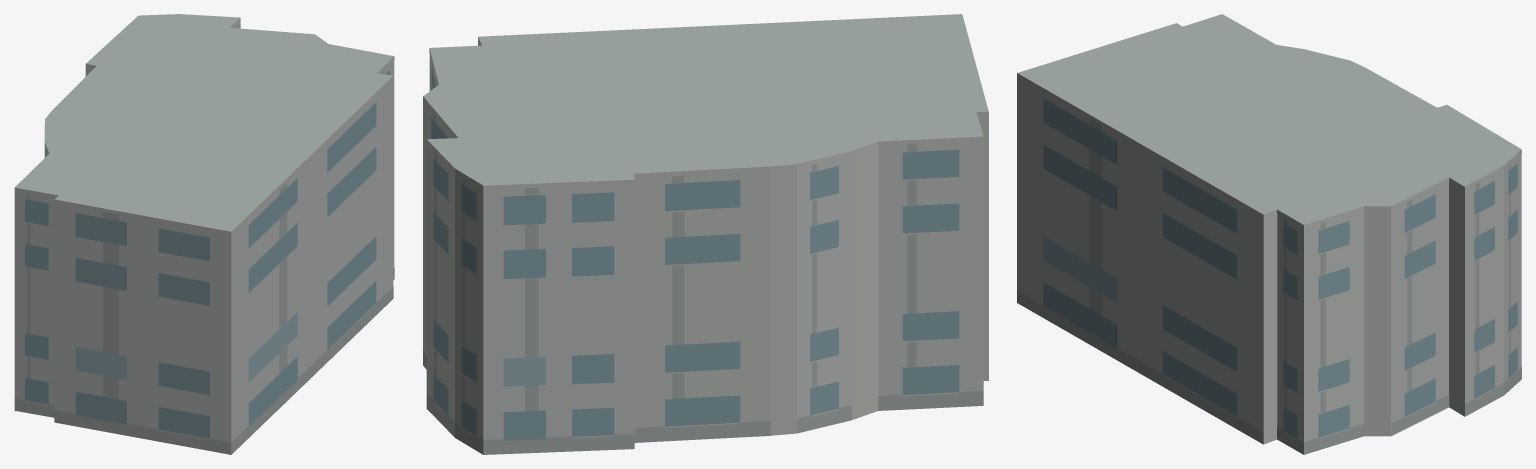
Rendered from survey-upis-32754911.glb.
The picture shows the model from 3 angles, left to right: view 1: azimuth 30°, elevation 25°; view 2: azimuth 150°, elevation 25°; view 3: azimuth 270°, elevation 25°; orthographic projection. The views are drawn at different scales.
Visible parts, largest first — view 1: survey-upis-32754911.tmp; view 2: survey-upis-32754911.tmp; view 3: survey-upis-32754911.tmp.
Part boxes in pixels (x1,y1,x2,y2): survey-upis-32754911.tmp: [14, 14, 394, 454]; survey-upis-32754911.tmp: [423, 14, 988, 454]; survey-upis-32754911.tmp: [1017, 14, 1521, 454].
Size of the model in its own units: 28.54 by 14.5 by 28.85.
